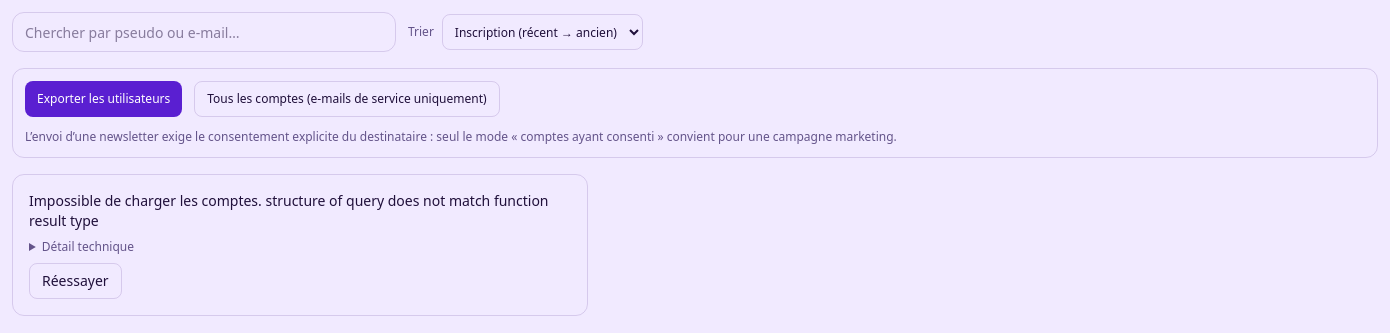
it: AdminUsersPanel — erreur affichée, liste vide, comptes sans profil (LOT 3) › affiche la vraie erreur (code + message) avec Réessayer, jamais une liste vide muette
The image size is (1390, 333).
Expected: the message shows "Impossible de charger les comptes.", [29,191,262,210]
Expected: the message shows "structure of query does not match function result type", [29,191,548,230]
Click the button "Réessayer" at (75, 281), box [29,263,122,299]
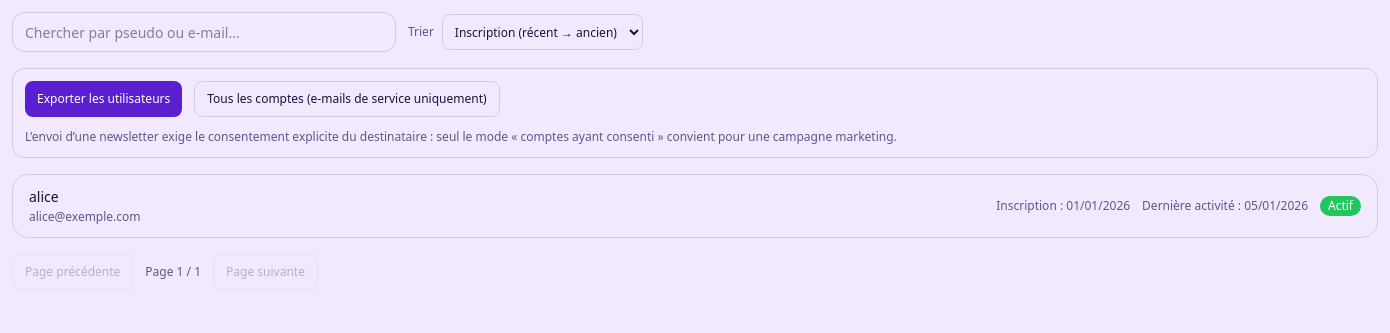
Now the text "alice" is shown, box [29,187,59,206]
Now the message is gone
